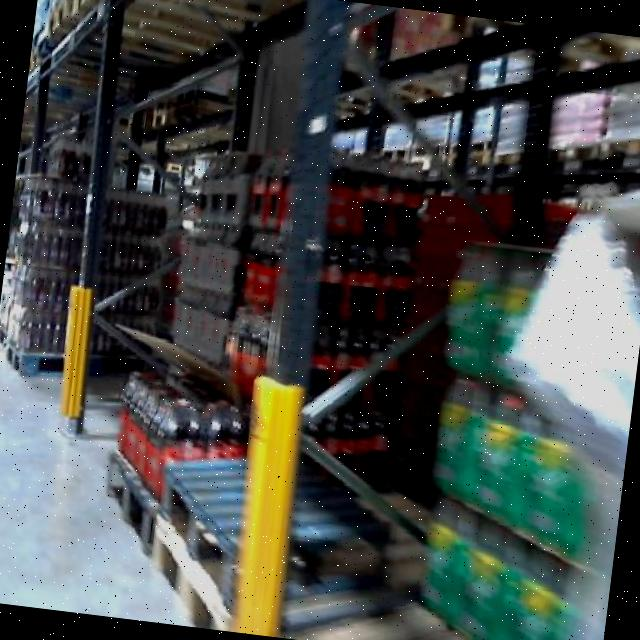pallet: (138, 439, 416, 631), (86, 438, 166, 561), (0, 336, 108, 391)
